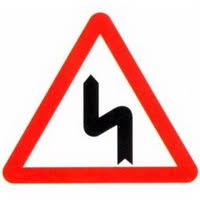Double_bend_left: (2, 8, 199, 186)
